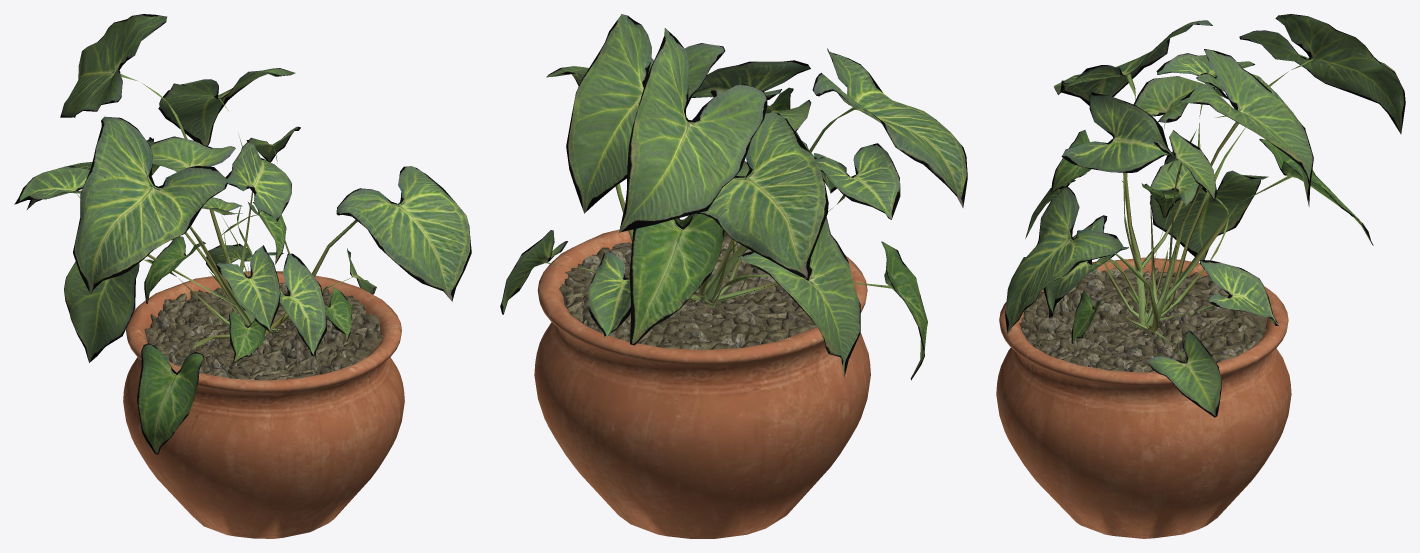
Rendered from potted_plant_02.glb.
3 renders of one model, left to right at view 1: azimuth 30°, elevation 25°; view 2: azimuth 150°, elevation 25°; view 3: azimuth 270°, elevation 25°, orthographic. The views are drawn at different scales.
Parts seen in each view (by area): view 1: potted_plant_02_leaves, potted_plant_02_pot, potted_plant_02_dirt; view 2: potted_plant_02_leaves, potted_plant_02_pot, potted_plant_02_dirt; view 3: potted_plant_02_leaves, potted_plant_02_pot, potted_plant_02_dirt.
Boxes of the visible parts, <box> form: potted_plant_02_leaves: <box>14,14,471,454</box>; potted_plant_02_pot: <box>123,271,404,538</box>; potted_plant_02_dirt: <box>144,282,383,380</box>; potted_plant_02_leaves: <box>500,14,967,380</box>; potted_plant_02_pot: <box>534,219,870,538</box>; potted_plant_02_dirt: <box>559,233,816,349</box>; potted_plant_02_leaves: <box>1005,14,1405,417</box>; potted_plant_02_pot: <box>996,257,1291,538</box>; potted_plant_02_dirt: <box>1019,267,1266,372</box>.
Bounding box in the file's own units: 0.7009 × 0.8398 × 0.6574.
Materials: 2 (2 with a texture image).
